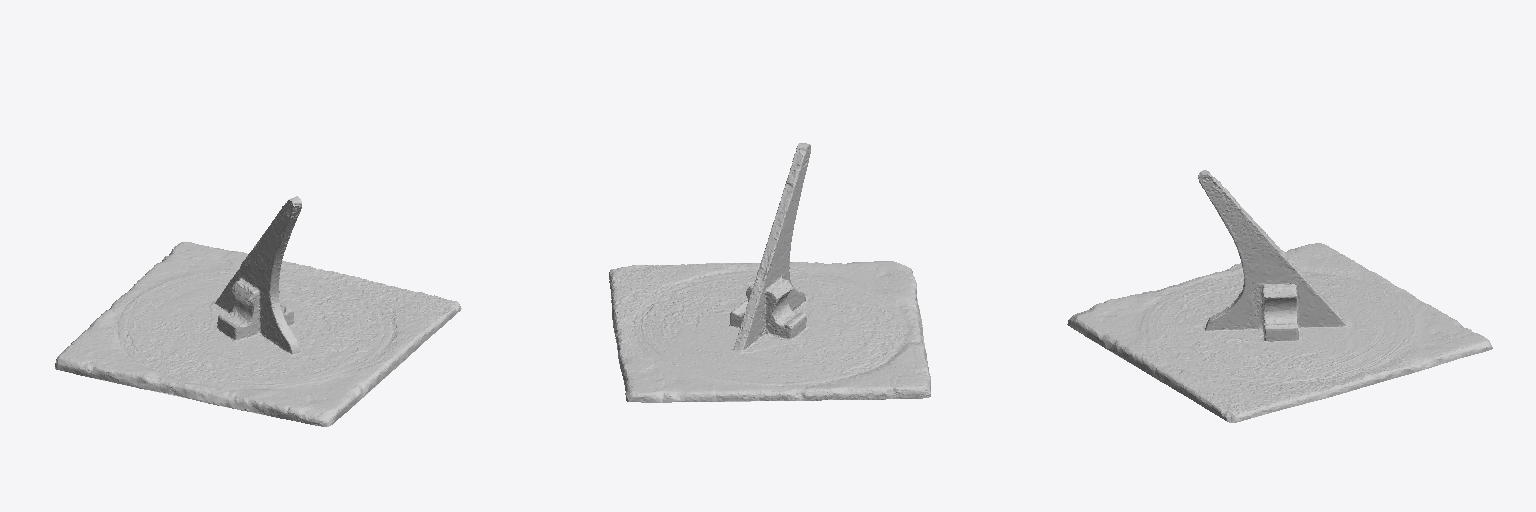
Rendered from gnomon.obj.
The picture shows the model from 3 angles: view 1: azimuth 30°, elevation 25°; view 2: azimuth 150°, elevation 25°; view 3: azimuth 270°, elevation 25°; orthographic projection.
Parts seen in each view (by area): view 1: RuskinParkSundial06; view 2: RuskinParkSundial06; view 3: RuskinParkSundial06.
Part boxes in pixels (x1,y1,x2,y2): RuskinParkSundial06: (55, 196, 461, 426); RuskinParkSundial06: (609, 143, 930, 402); RuskinParkSundial06: (1067, 170, 1492, 422).
Size of the model in its own units: 2.42 by 1.08 by 2.45.